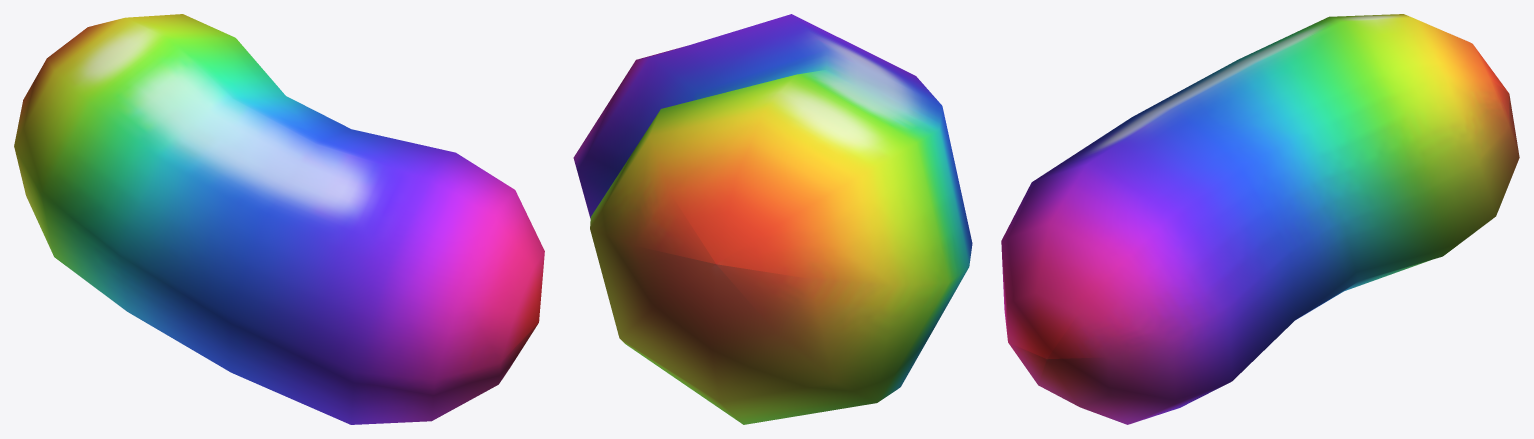
The model's file is Rainbow Gummi.obj.
3 renders of one model, left to right at view 1: azimuth 30°, elevation 25°; view 2: azimuth 150°, elevation 25°; view 3: azimuth 270°, elevation 25°, orthographic. The views are drawn at different scales.
Visible parts, largest first — view 1: gumi; view 2: gumi; view 3: gumi.
Part boxes in pixels (x1=…): gumi: x1=14, y1=14, x2=544, y2=424; gumi: x1=573, y1=14, x2=972, y2=424; gumi: x1=1001, y1=14, x2=1519, y2=424.
Size of the model in its own units: 2.61 by 2.1 by 3.06.
Materials: 1 (1 with a texture image).
